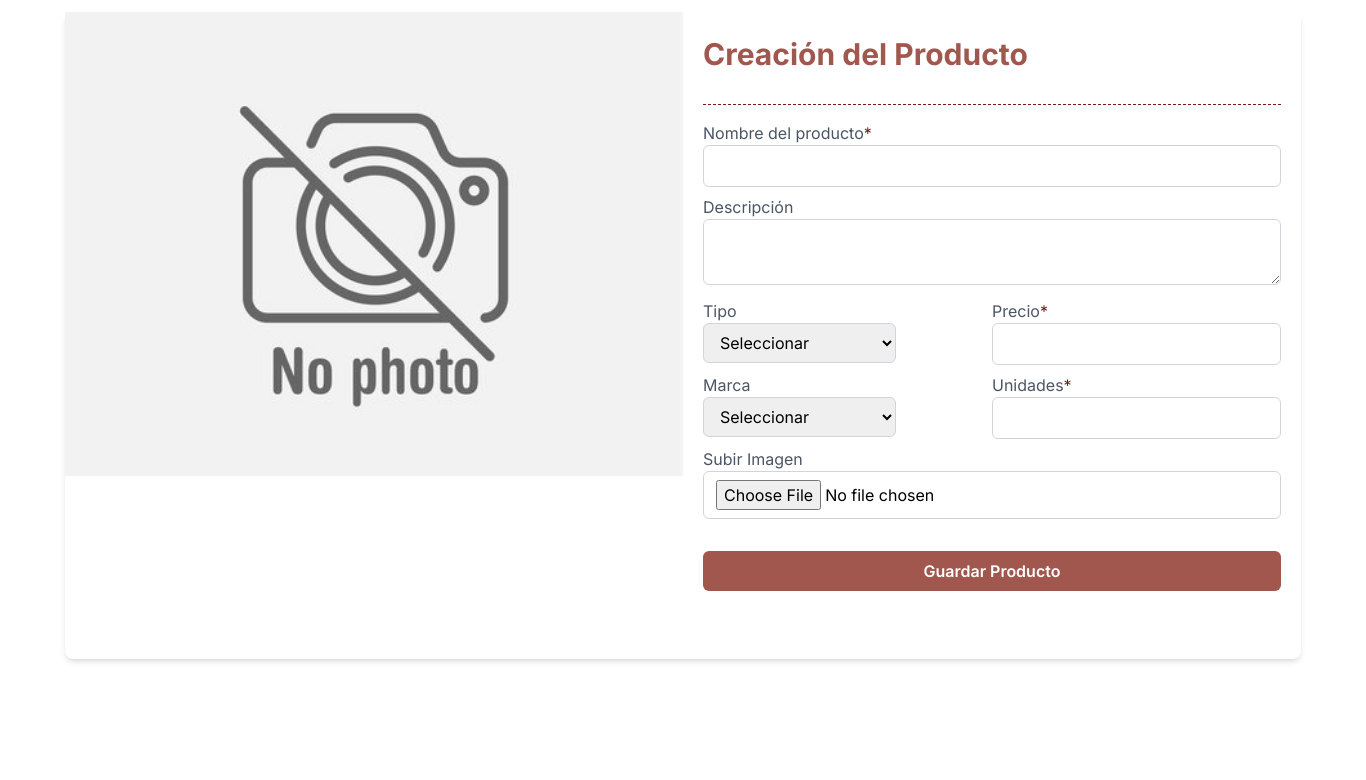
ProductTemplateEditor Component › muestra la validación de errores cuando los campos requeridos están vacíos
Click the button "Guardar Producto".
click(992, 571)  # box [703,551,1281,591]
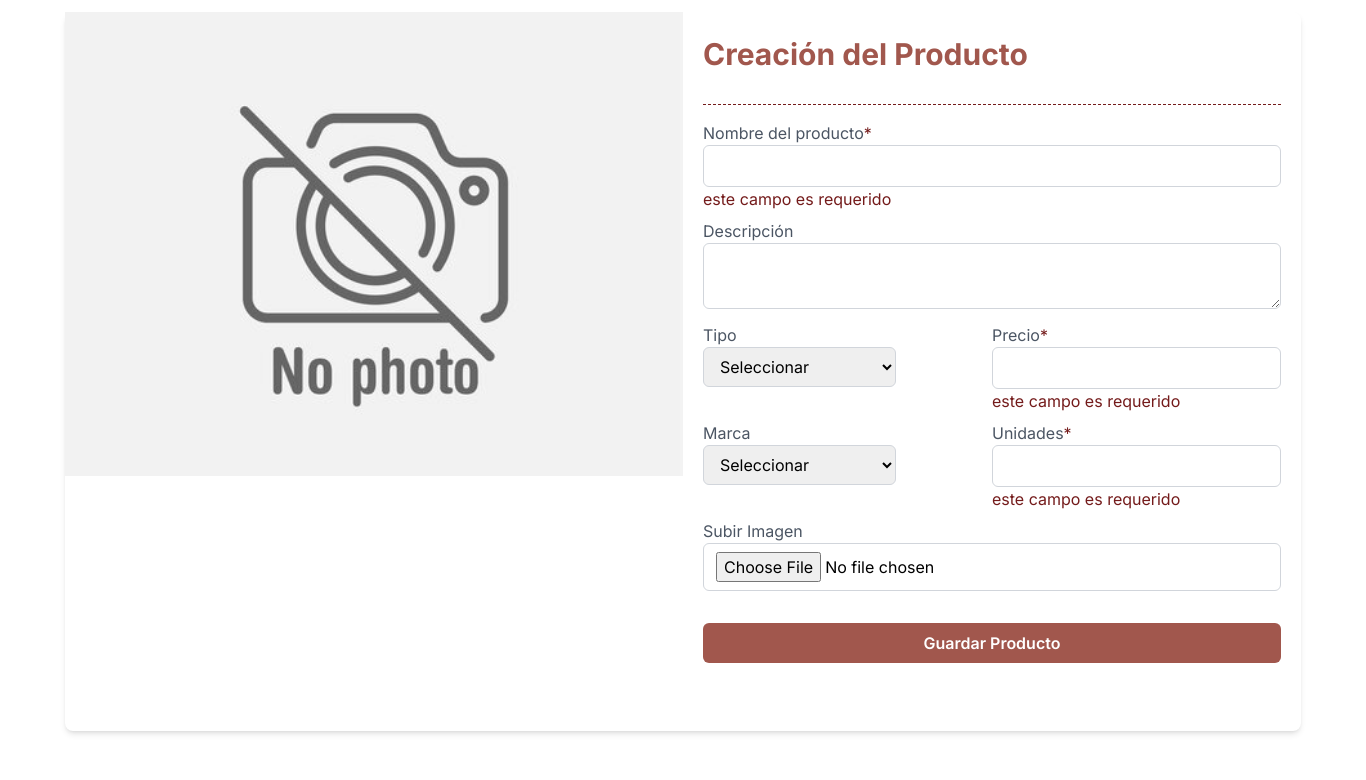
Expected: the text "este campo es requerido" is shown 3 times, [703,189,891,209]; [992,391,1180,411]; [992,489,1180,509]
